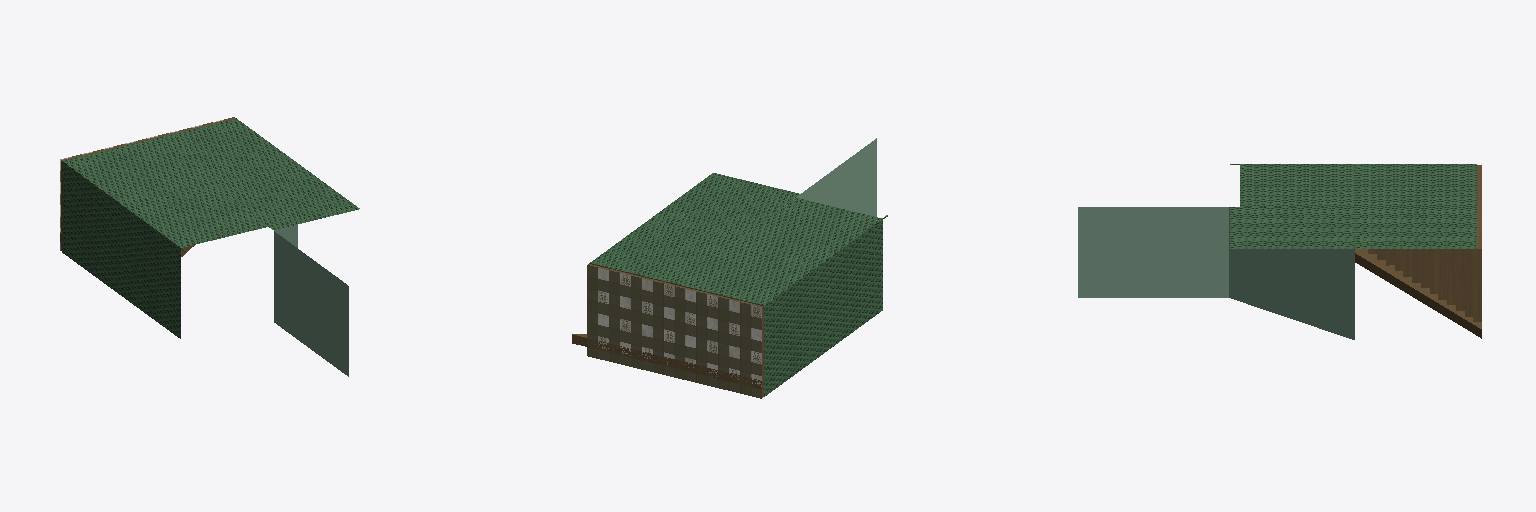
3 views of the same model, side by side, from view 1: azimuth 30°, elevation 25°; view 2: azimuth 150°, elevation 25°; view 3: azimuth 270°, elevation 25° (orthographic).
Visible parts, largest first — view 1: Plane.001_Plane.004; view 2: Plane.001_Plane.004, Cube; view 3: Plane.001_Plane.004, Plane_Plane.007, Cube.
Part boxes in pixels (x1,y1,x2,y2): Plane.001_Plane.004: (60, 117, 359, 376); Plane.001_Plane.004: (587, 138, 887, 398); Cube: (572, 334, 763, 389); Plane.001_Plane.004: (1078, 164, 1481, 339); Plane_Plane.007: (1368, 249, 1481, 321); Cube: (1355, 249, 1481, 338).
Size of the model in its own units: 4.35 by 2 by 8.02.
1 materials, 1 textured.